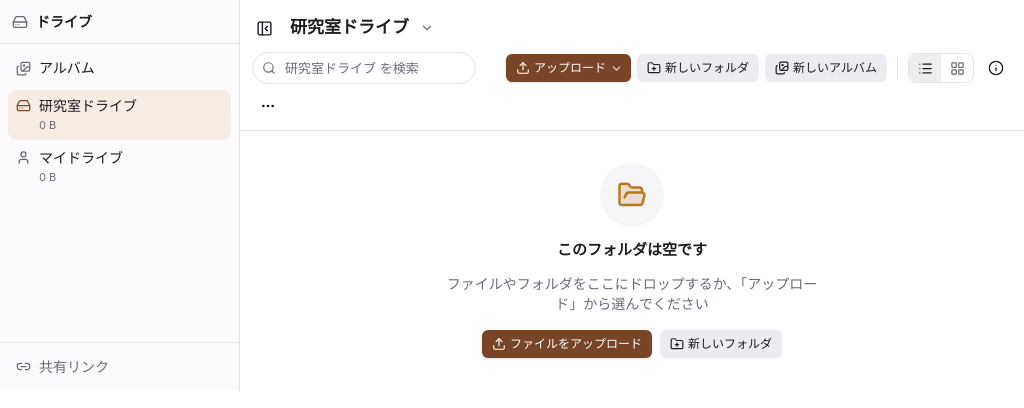
Test: choosing a location keeps the column; its toggle hides it, and the root crumb's ▾ then switches location
The width and height of the screenshot is (1024, 408).
Expected: the button named "場所の一覧を隠す" is shown, [248,12,280,44]
Click the button "マイドライブ 0 B" at (120, 167), box [8,142,231,191]
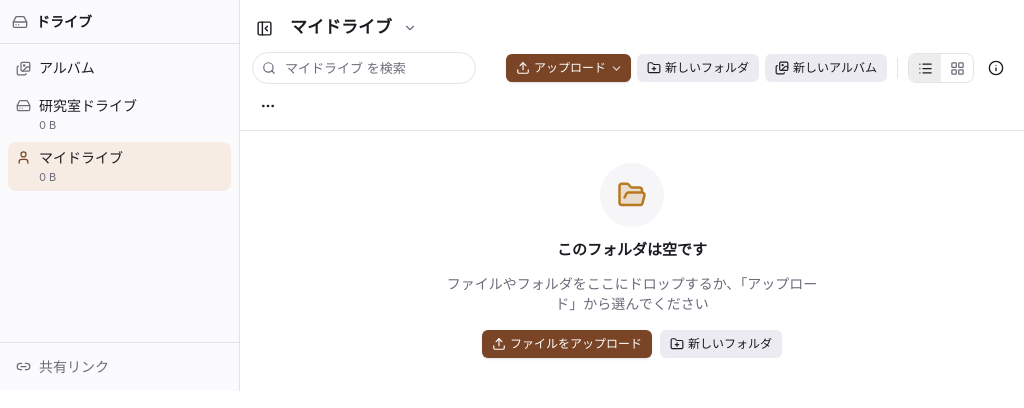
Expected: the text "このフォルダは空です" is shown, [557,239,707,262]
Expected: the element with id "drive-locations" is shown, [0,0,240,390]
The toggle puts it away (remembered on this device).
Click the button named "場所の一覧を隠す" at (264, 28), box [248,12,280,44]
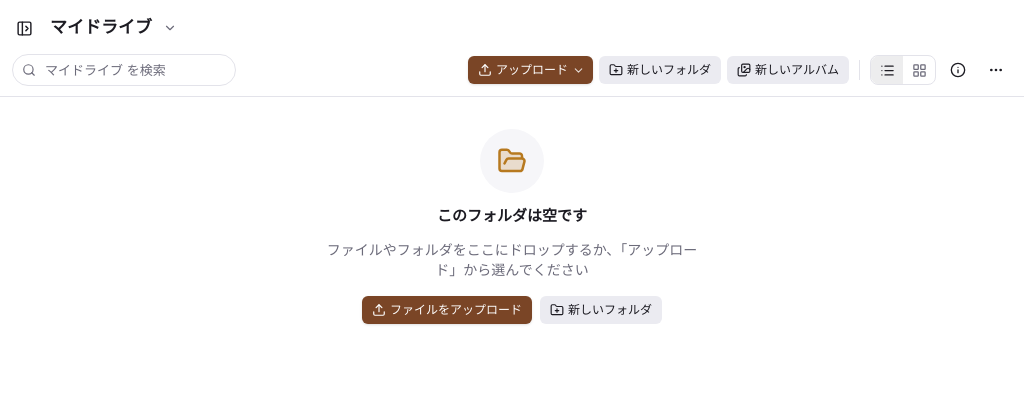
Result: the element with id "drive-locations" is gone
Result: the button named "場所の一覧を表示" is collapsed at [8,12,40,44]
The root crumb's ▾: the other location, without the column.
Press the mouse on the button named "ほかの場所を開く" at (170, 28), box [160,14,180,42]
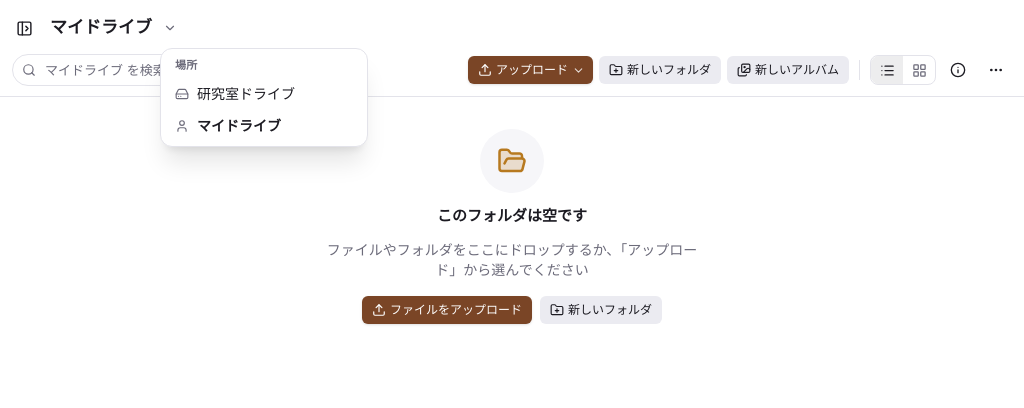
Click the menu item "研究室ドライブ" at (235, 93), box [175,84,295,102]
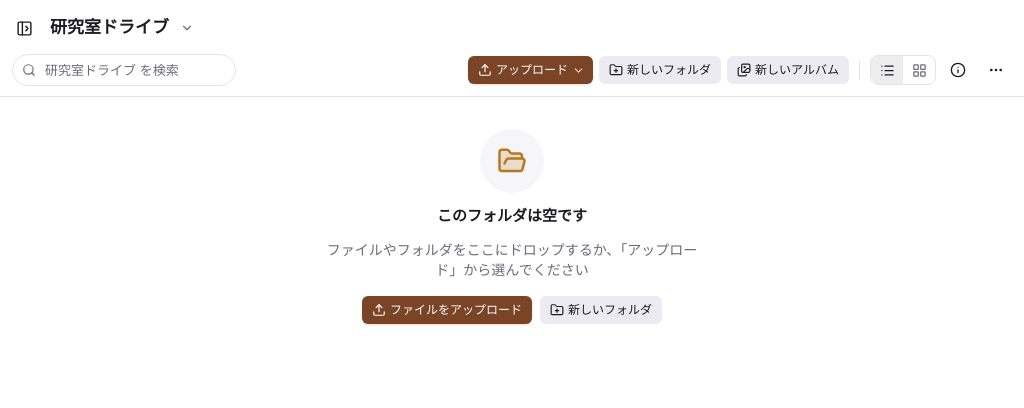
Expected: the button "研究室ドライブ" is shown, [44,13,175,43]
The toggle shows it again, and that is remembered too.
Click the button named "場所の一覧を表示" at (24, 28), box [8,12,40,44]
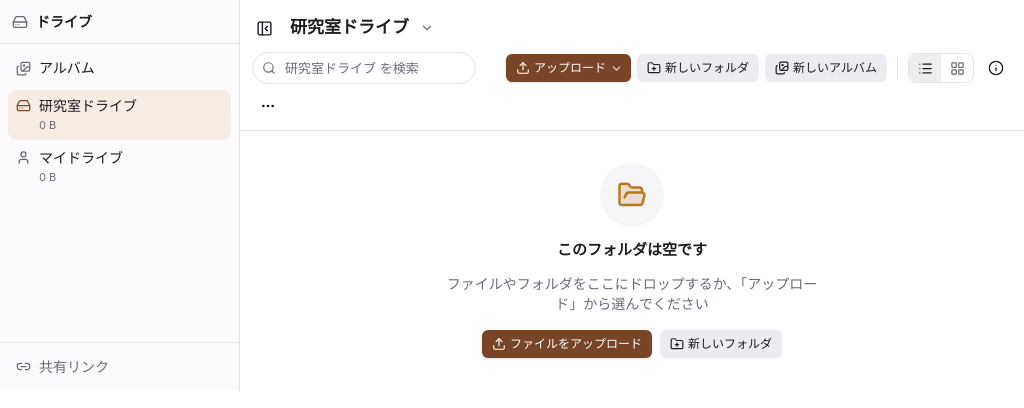
Result: the element with id "drive-locations" is shown at [0,0,240,390]
